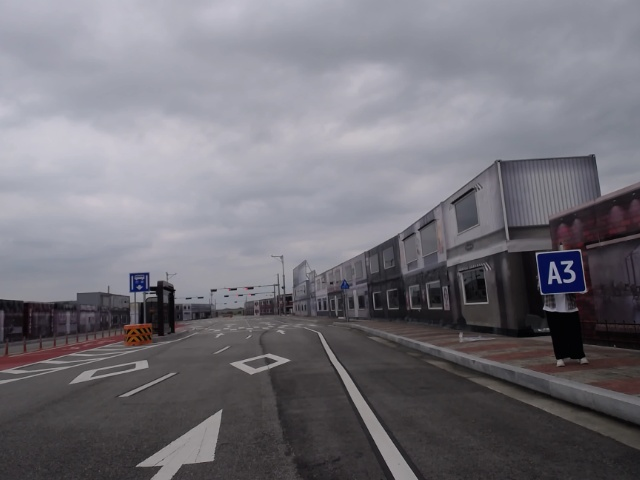delivery_a3: (536, 250, 587, 294)
